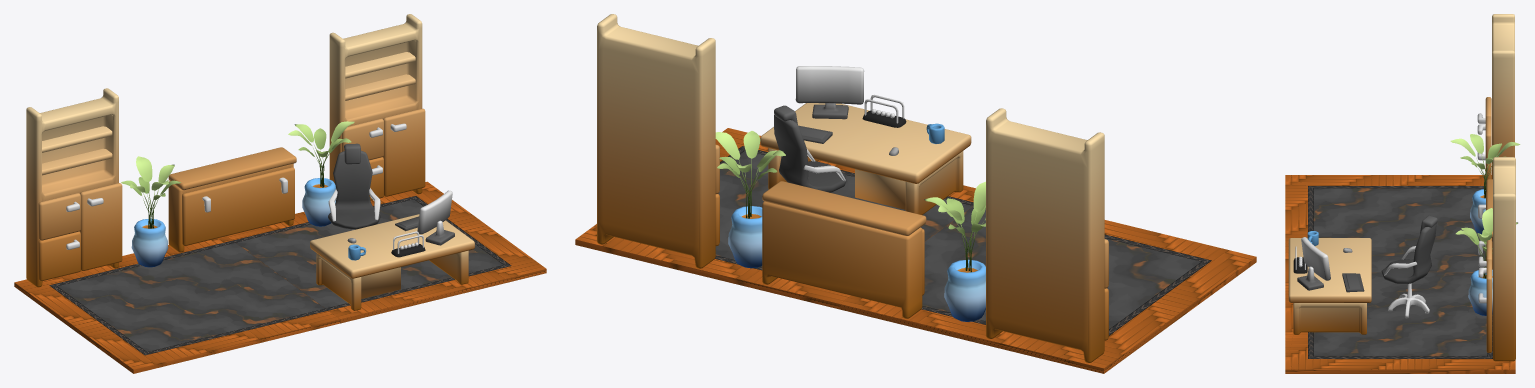
File: boss_office.fbx
3 renders of one model, left to right at view 1: azimuth 30°, elevation 25°; view 2: azimuth 150°, elevation 25°; view 3: azimuth 270°, elevation 25°, orthographic. The views are drawn at different scales.
Visible parts, largest first — view 1: Cube.001; view 2: Cube.001; view 3: Cube.001.
Part boxes in pixels (x1,y1,x2,y2): Cube.001: [14, 14, 546, 373]; Cube.001: [575, 14, 1256, 373]; Cube.001: [1285, 14, 1520, 373].
Size of the model in its own units: 1000 by 410 by 511.
Materials: 7 (4 with a texture image).
